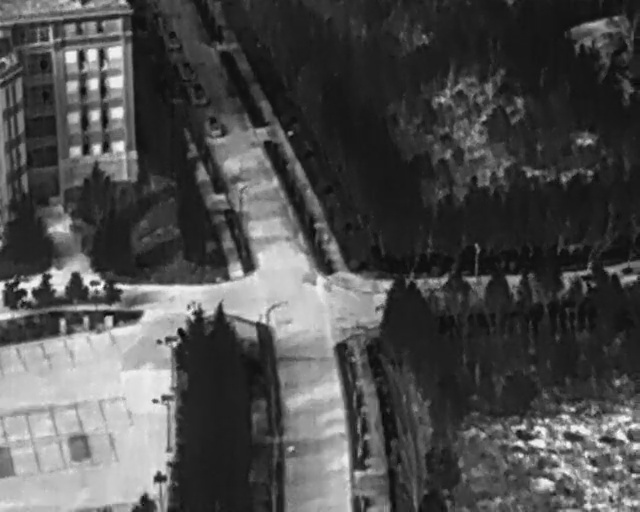Car: (172, 53, 199, 83), (160, 25, 185, 57), (200, 112, 223, 140), (187, 82, 210, 108)
